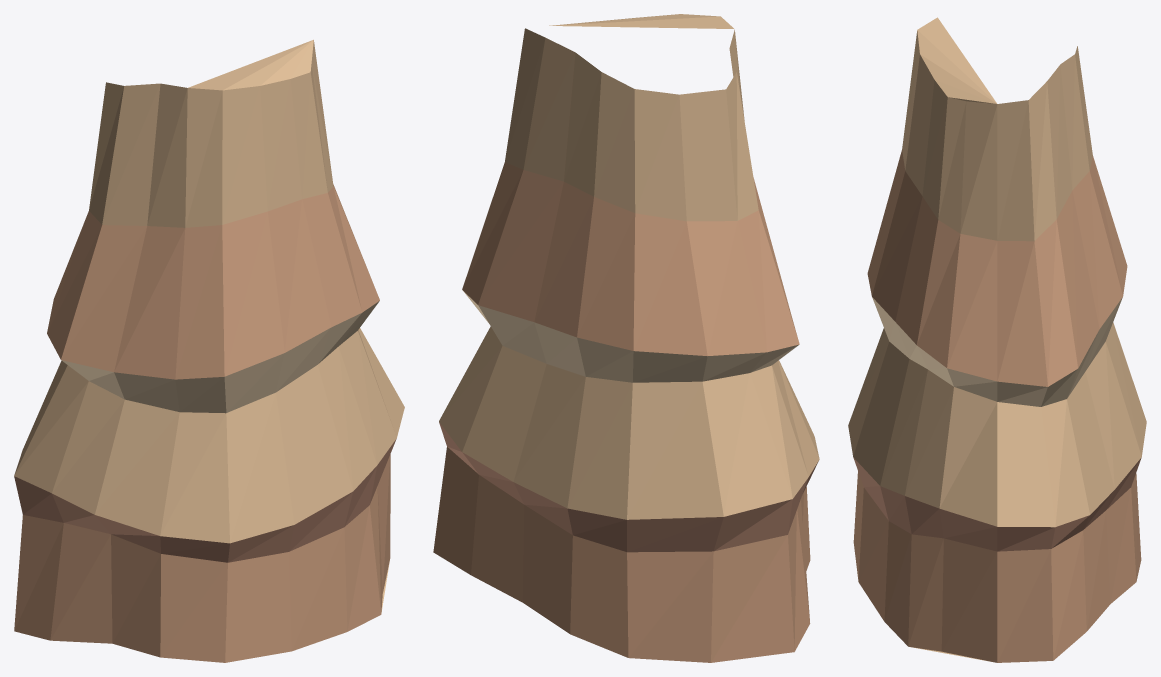
Rendered from sandstone-0.glb.
The picture shows the model from 3 angles, left to right: view 1: azimuth 30°, elevation 25°; view 2: azimuth 150°, elevation 25°; view 3: azimuth 270°, elevation 25°; orthographic projection. The views are drawn at different scales.
Size of the model in its own units: 24.55 by 35.97 by 17.88.
